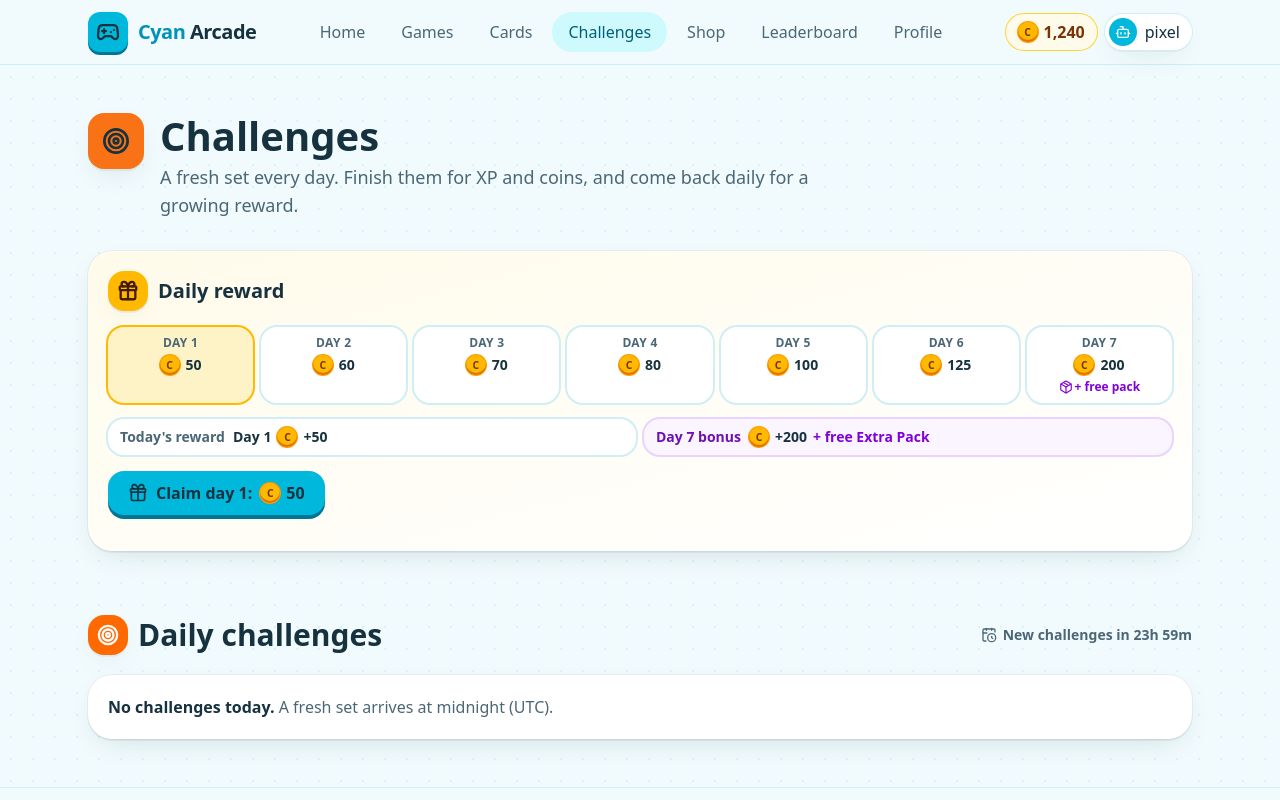
Test: the daily reward › shows every day of the run and lets a player claim today
Check: the heading "Challenges" is shown, box left=160, top=108, right=379, bottom=163
Check: the list item "Day 1 C 50" is shown, box left=108, top=327, right=253, bottom=403
Click the button "Claim day 1: C 50".
click(216, 493)  # box left=108, top=471, right=325, bottom=515
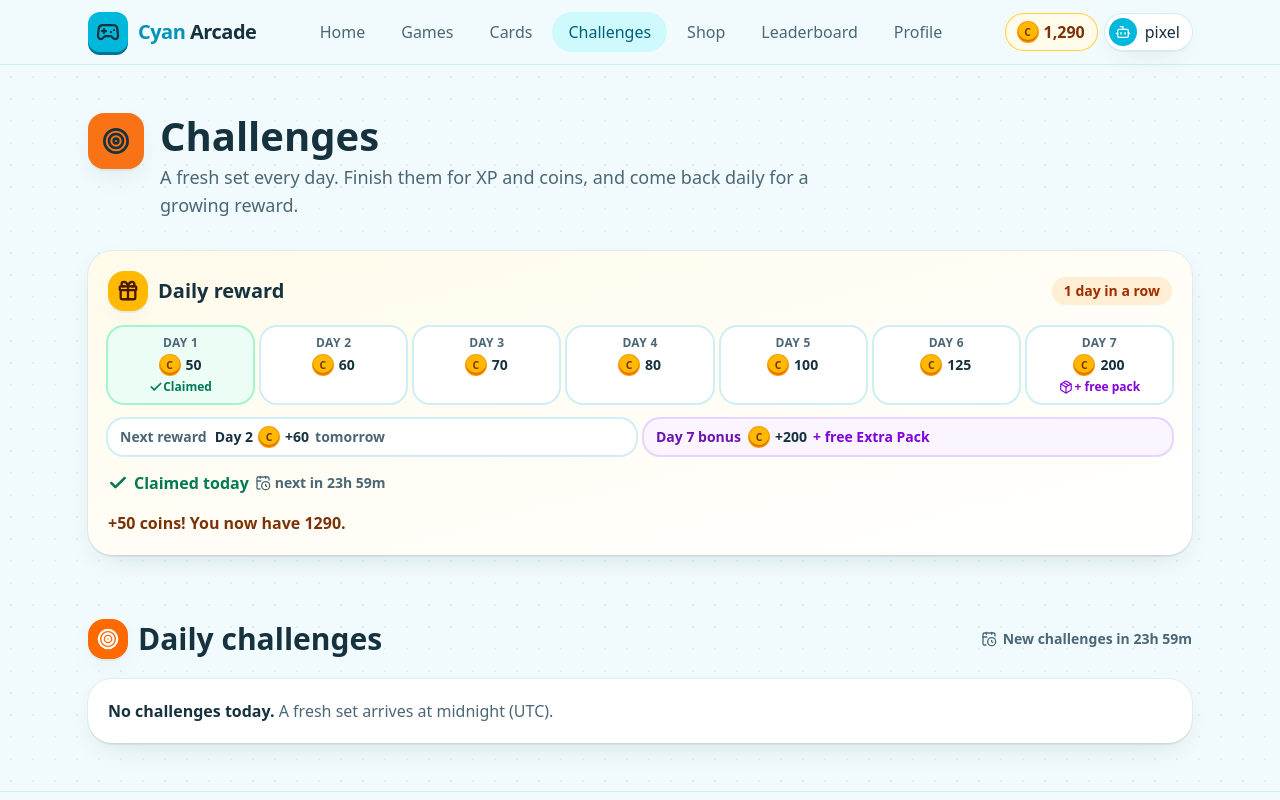
Check: the message reads "+50 coins! You now have 1290.", box left=108, top=512, right=346, bottom=534
Check: the text "Claimed today" is shown, box left=134, top=472, right=249, bottom=494
Check: the text "Today's reward" reads "Next reward Day 2 C +60 tomorrow", box left=108, top=419, right=636, bottom=455
